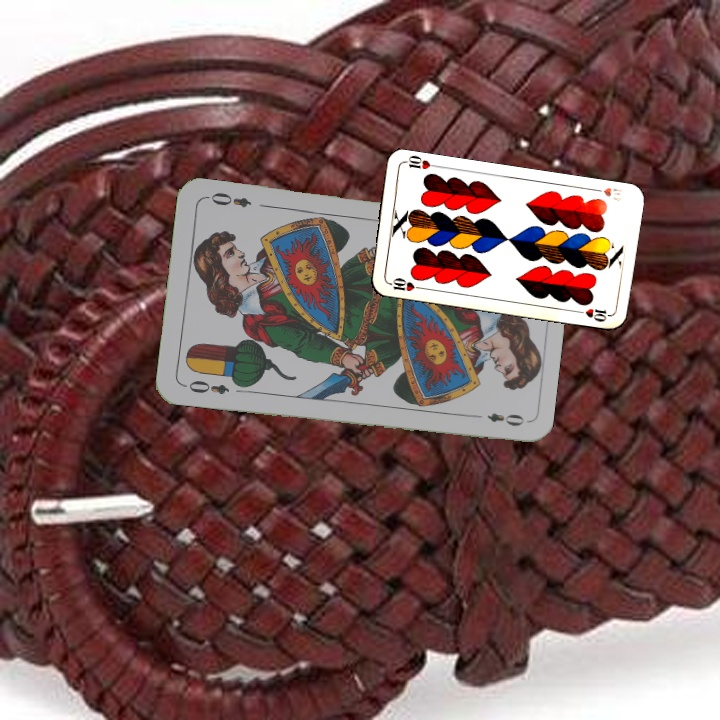EO: (180, 376, 232, 398)
H10: (384, 274, 424, 294), (588, 183, 625, 199)
